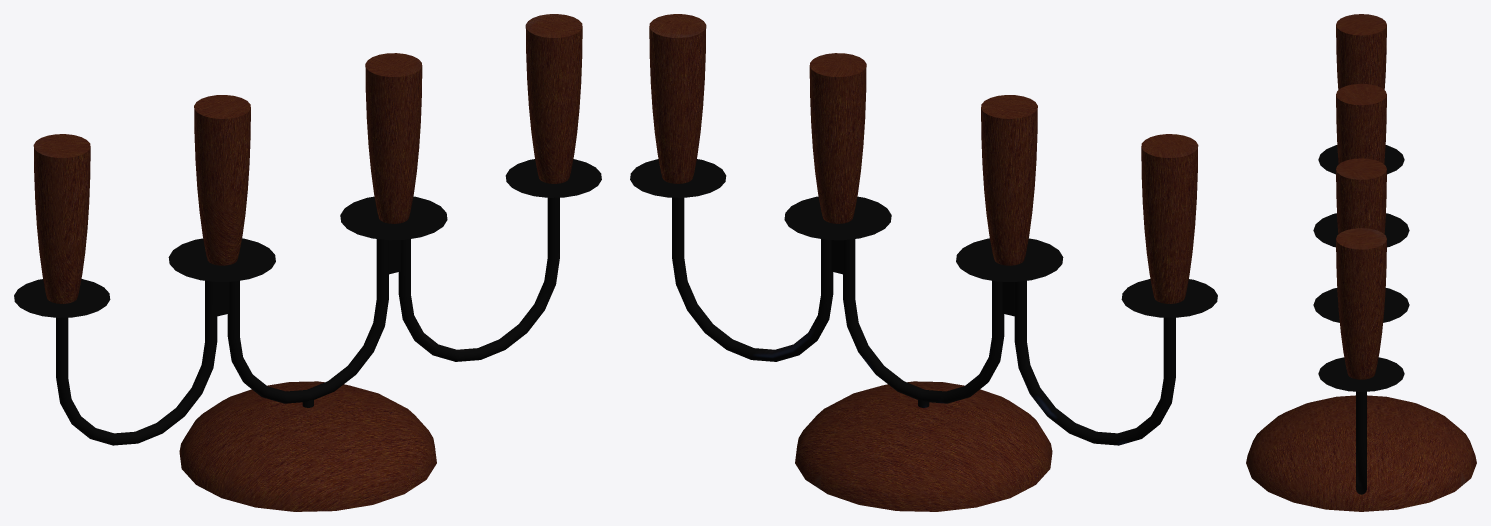
The model's file is candles.glb.
The picture shows the model from 3 angles, left to right: view 1: azimuth 30°, elevation 25°; view 2: azimuth 150°, elevation 25°; view 3: azimuth 270°, elevation 25°; orthographic projection. The views are drawn at different scales.
Visible parts, largest first — view 1: S_kertastjaki_A_EHH_01; view 2: S_kertastjaki_A_EHH_01; view 3: S_kertastjaki_A_EHH_01.
Part boxes in pixels (bbox=[...]): S_kertastjaki_A_EHH_01: bbox=[14, 14, 601, 511]; S_kertastjaki_A_EHH_01: bbox=[630, 14, 1217, 511]; S_kertastjaki_A_EHH_01: bbox=[1246, 14, 1476, 511].
Bounding box in the file's own units: 0.4021 × 0.248 × 0.1567.
2 materials, 2 textured.
